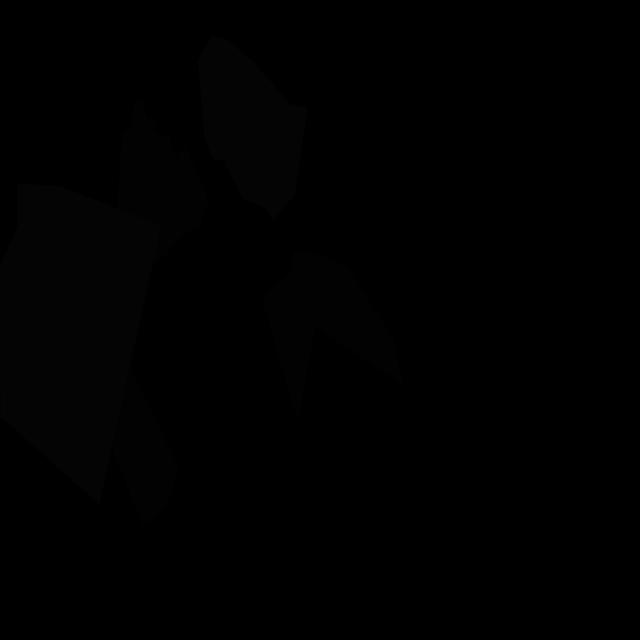cardboard: (262, 251, 404, 423), (116, 100, 208, 269), (112, 367, 178, 525)
soft_plastic: (0, 183, 162, 505), (198, 36, 308, 220)
